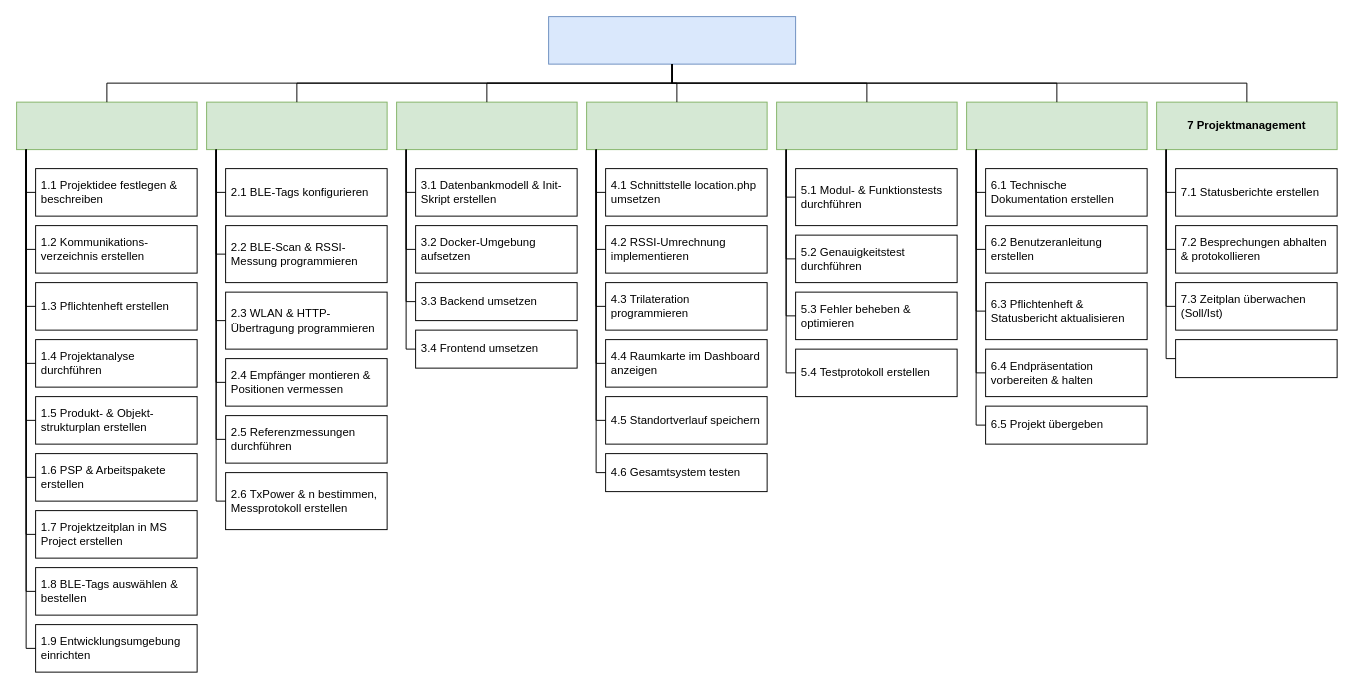
Some shapes in this 1354 by 689 pixel diagram are drawn without their labels. The shapes that lost their labels are listed below. From the top down, each one's box as (x1, y1, x2, y2) in pixels, then its label:
(548, 16, 796, 64): MedTrack Projektstrukturplan
(16, 101, 197, 150): 1 Planung & Konzept
(206, 101, 387, 150): 2 Hardware & Ortung
(396, 101, 577, 150): 3 Webanwendung & Datenbank
(586, 101, 767, 150): 4 Integration
(776, 101, 957, 150): 5 Test & Optimierung
(966, 101, 1147, 150): 6 Dokumentation & Abschluss
(1175, 339, 1337, 378): 7.4 Repository pflegen
